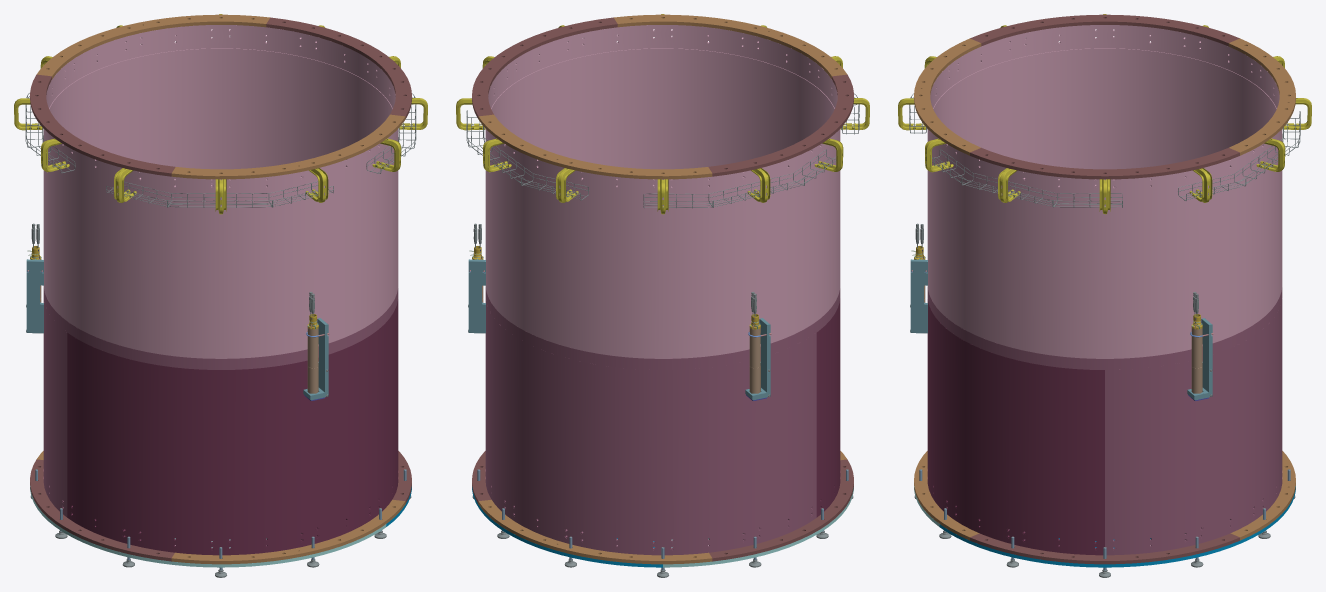
File: f1_cradle.glb
3 renders of one model, left to right at view 1: azimuth 30°, elevation 25°; view 2: azimuth 150°, elevation 25°; view 3: azimuth 270°, elevation 25°, orthographic.
Visible parts, largest first — view 1: f1_cradle; view 2: f1_cradle; view 3: f1_cradle.
Boxes of the visible parts, x1,y1,x2,y2 form: f1_cradle: (14, 14, 427, 577); f1_cradle: (456, 14, 869, 577); f1_cradle: (898, 14, 1311, 577).
Size of the model in its own units: 2.56 by 2.74 by 2.56.
